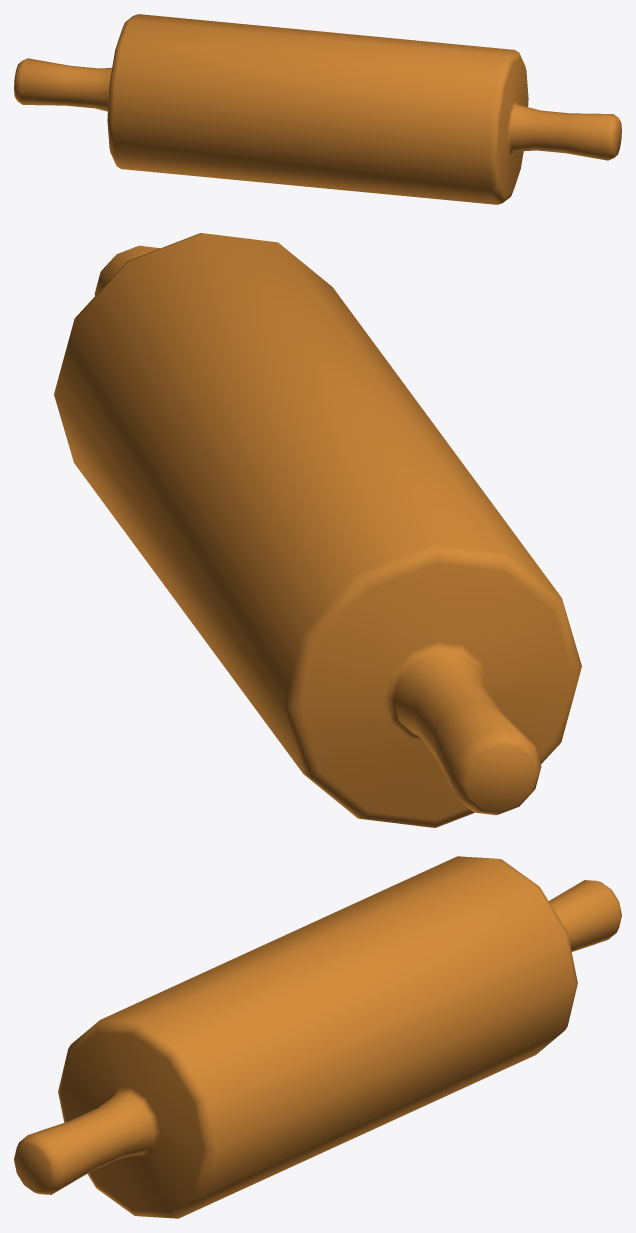
The model's file is rolling pin.fbx.
3 renders of one model, top to bottom at view 1: azimuth 30°, elevation 25°; view 2: azimuth 150°, elevation 25°; view 3: azimuth 270°, elevation 25°, orthographic. The views are drawn at different scales.
Visible parts, largest first — view 1: rolling pin; view 2: rolling pin; view 3: rolling pin.
Boxes of the visible parts, x1,y1,x2,y2 form: rolling pin: [14, 14, 621, 204]; rolling pin: [54, 233, 581, 827]; rolling pin: [14, 856, 621, 1218].
Bounding box in the file's own units: 37.87 × 12.42 × 35.29.
